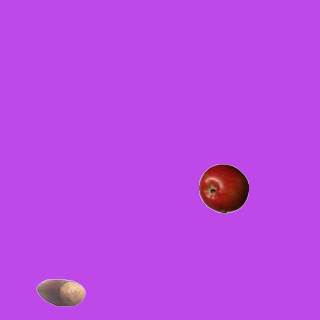Apple Braeburn: (198, 163, 248, 213)
Hazelnut: (35, 267, 85, 317)
